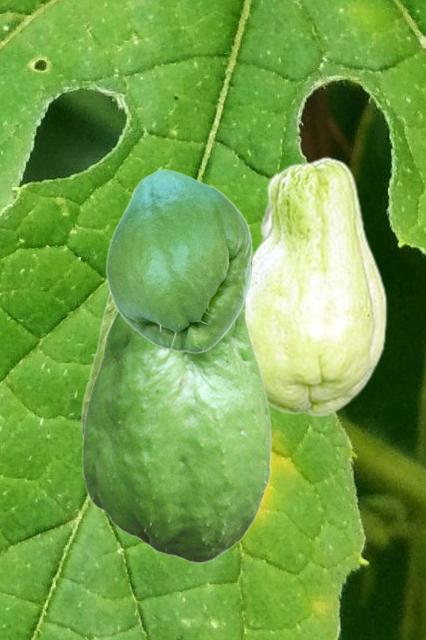sayote: (81, 296, 271, 562), (247, 156, 386, 416), (105, 169, 252, 353), (80, 292, 115, 433)
